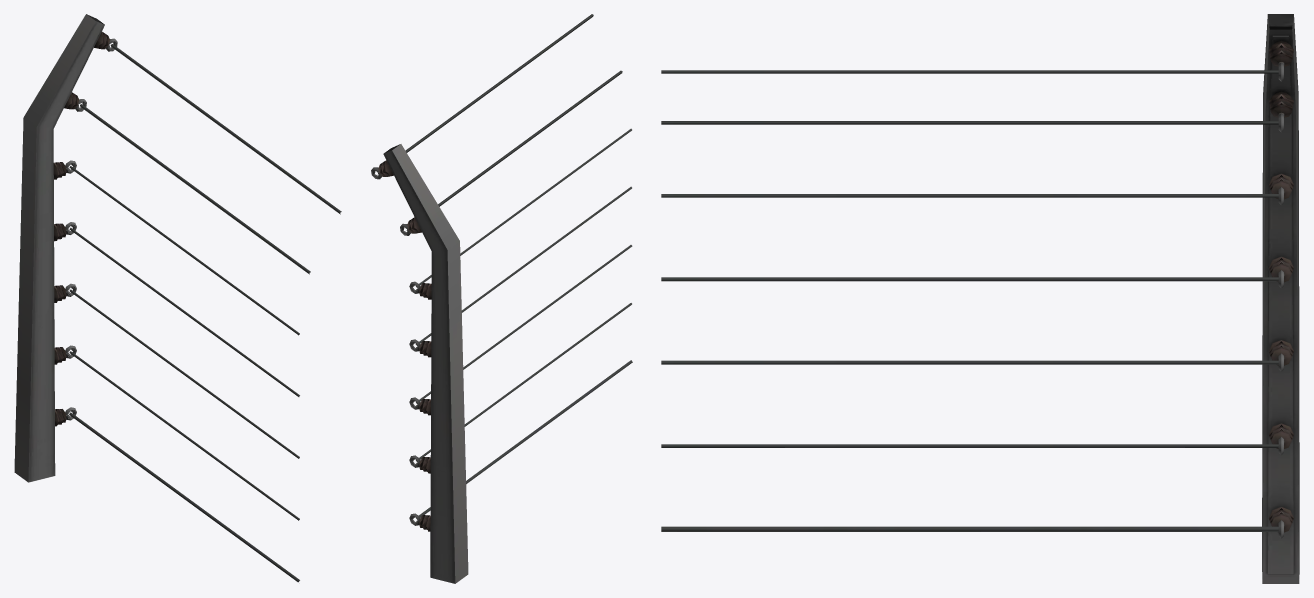
3 views of the same model, side by side, from view 1: azimuth 30°, elevation 25°; view 2: azimuth 150°, elevation 25°; view 3: azimuth 270°, elevation 25° (orthographic). The views are drawn at different scales.
Parts seen in each view (by area): view 1: body0_model0_lod0_mesh0; view 2: body0_model0_lod0_mesh0; view 3: body0_model0_lod0_mesh0.
Part boxes in pixels (left/top/right/bottom): body0_model0_lod0_mesh0: left=14, top=14, right=341, bottom=582; body0_model0_lod0_mesh0: left=371, top=14, right=632, bottom=583; body0_model0_lod0_mesh0: left=661, top=14, right=1299, bottom=583.
Size of the model in its own units: 87.89 by 385 by 373.
1 material, 1 textured.
